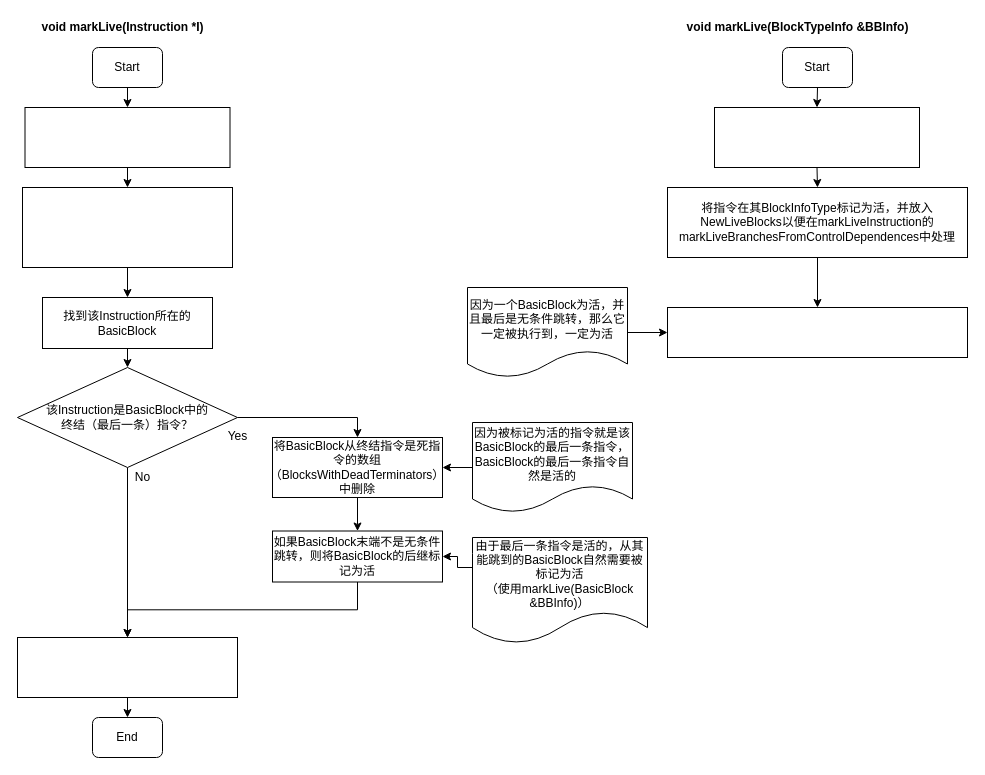
Some shapes in this 985 by 775 pixel diagram are drawn without their labels. Here are the shapes that lost their labels. From the top down, the box of each, then its label:
(24, 106, 230, 168): 如果当前待标记的Instruction已经为活，则直接返回
(714, 106, 920, 168): 如果当前待标记的BasicBlock已经为活，则直接返回
(22, 186, 232, 268): 将指令在其InstInfoType标记为活，并放入Worklist以便在markLiveInstruction中的下一个循环中处理
(666, 306, 968, 358): 如果这个BasicBlock以无条件Branch结束，那么标记这条最后的无条件Branch为活 （使用markLive(Instruction *I)）
(16, 636, 238, 698): 将Instruction所在的BasicBlock标记为活（使用markLive(BasicBlock &BBInfo)）
